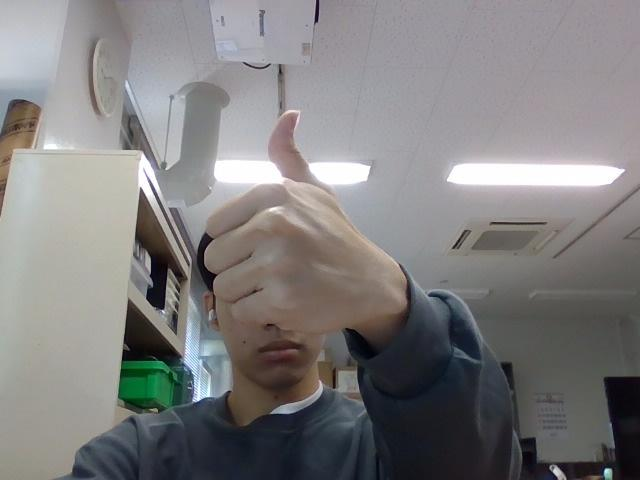thumbs-up: (187, 110, 412, 356)
